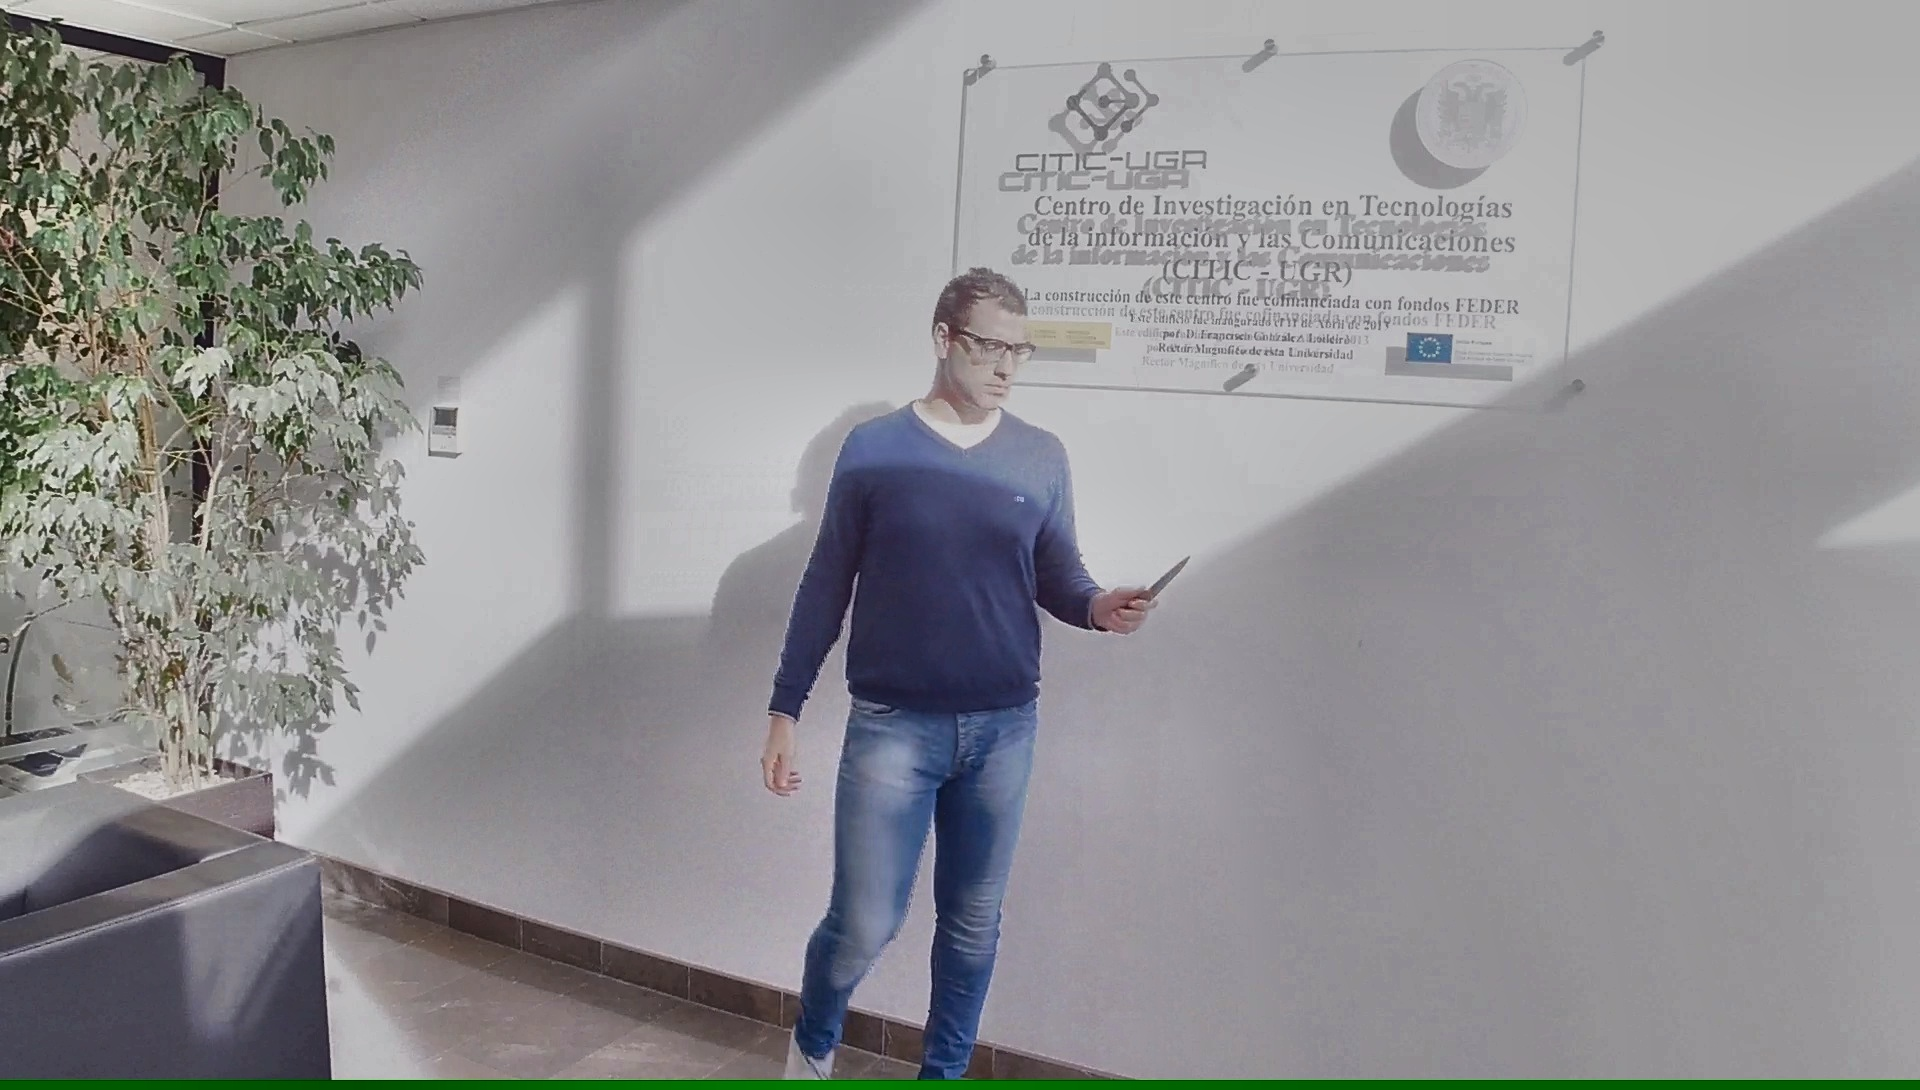knife: (1114, 546, 1203, 626)
